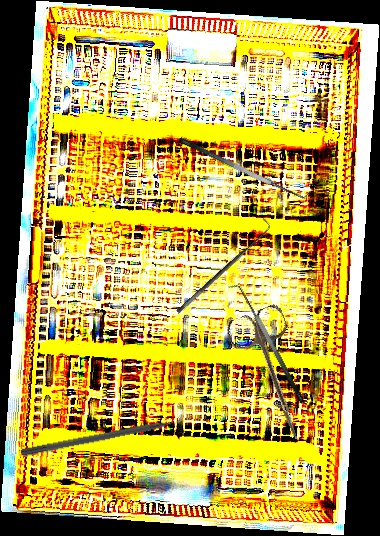Hook Surgical: (169, 216, 276, 316)
Iris Scissors: (223, 302, 327, 449)
Pusher: (20, 415, 194, 459)
Spatula Surgical: (178, 126, 312, 206), (227, 278, 307, 410)
